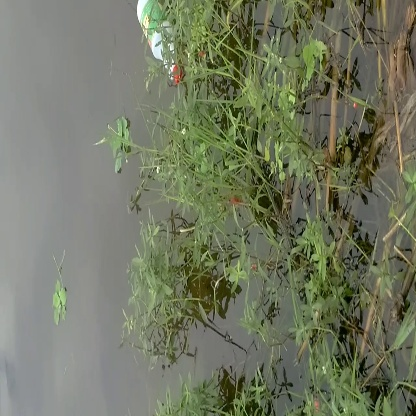bottle: (139, 7, 188, 83)
